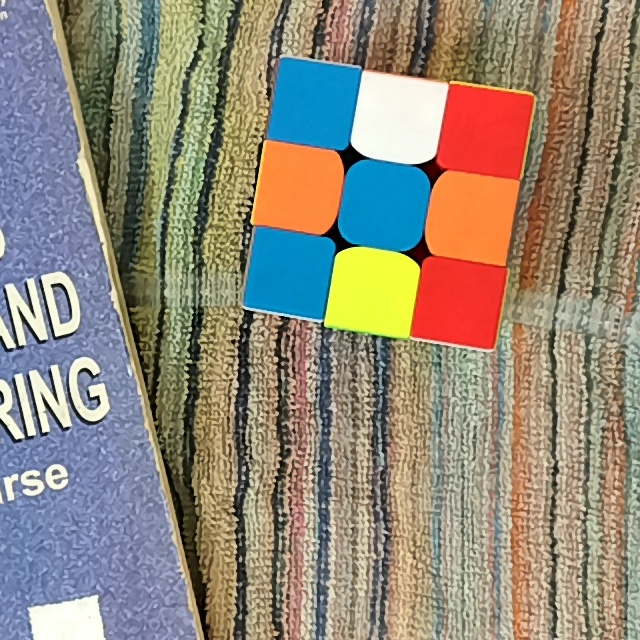tile: (363, 83, 433, 156), (450, 95, 521, 164), (280, 69, 349, 139), (437, 183, 506, 250), (264, 154, 334, 219), (352, 172, 420, 238), (255, 242, 323, 303), (424, 272, 492, 333), (340, 259, 406, 321)
